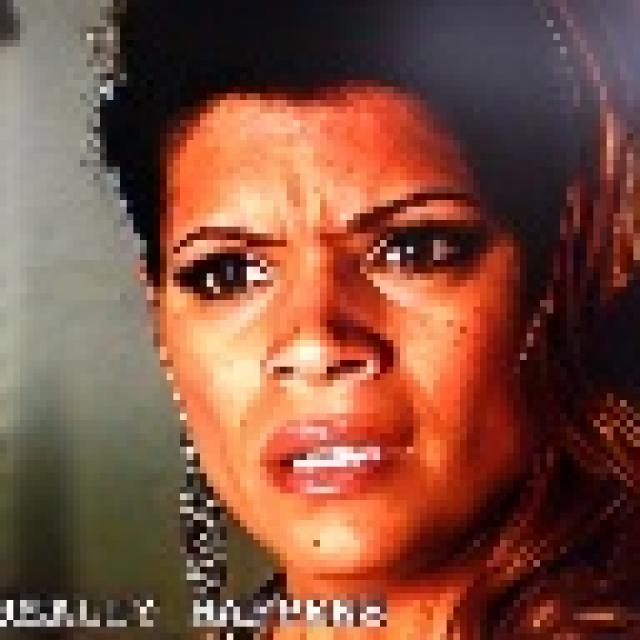angry: (130, 49, 603, 584)
